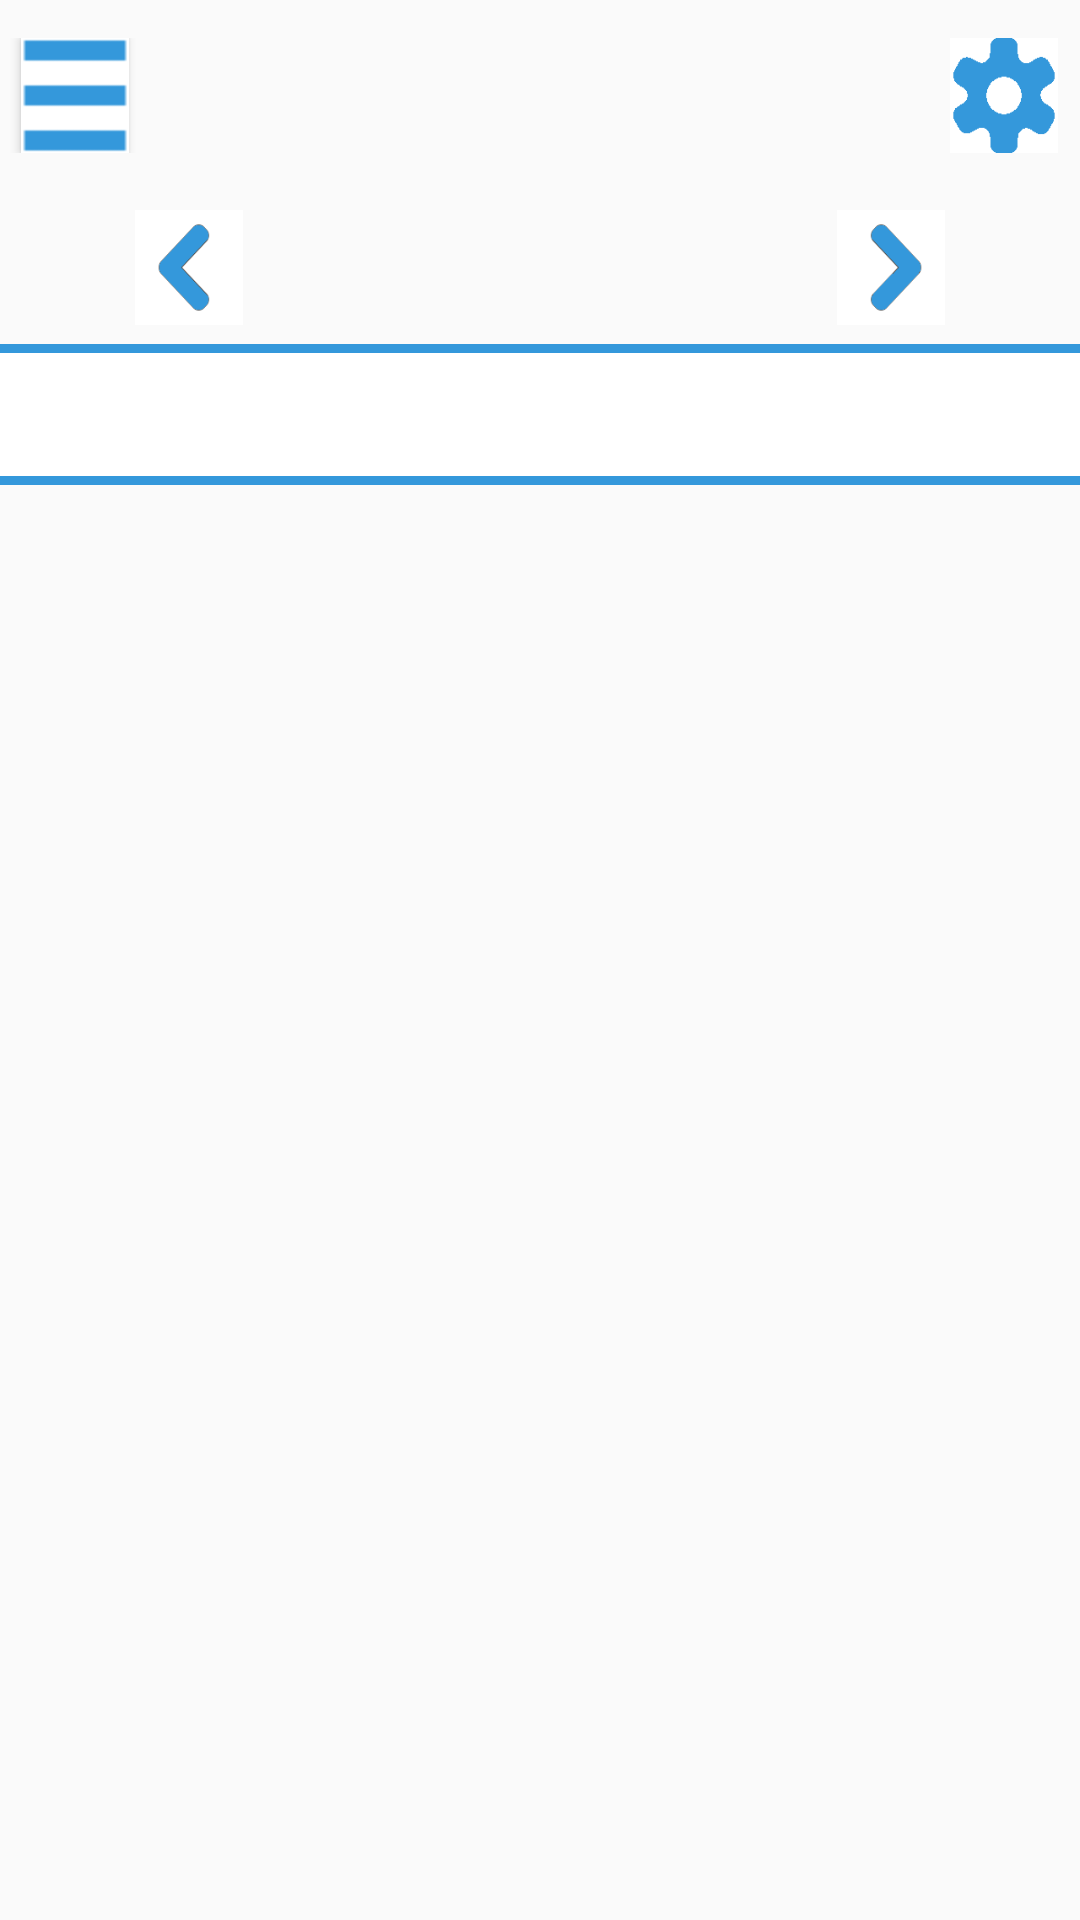

Icons on this 1080x1920 Android screen, each with its box as Rect(x1, y1, x2, y2):
arrow left: Rect(158, 224, 210, 311)
arrow right: Rect(870, 224, 922, 311)
drawer: Rect(23, 40, 127, 151)
setting: Rect(953, 38, 1055, 153)
